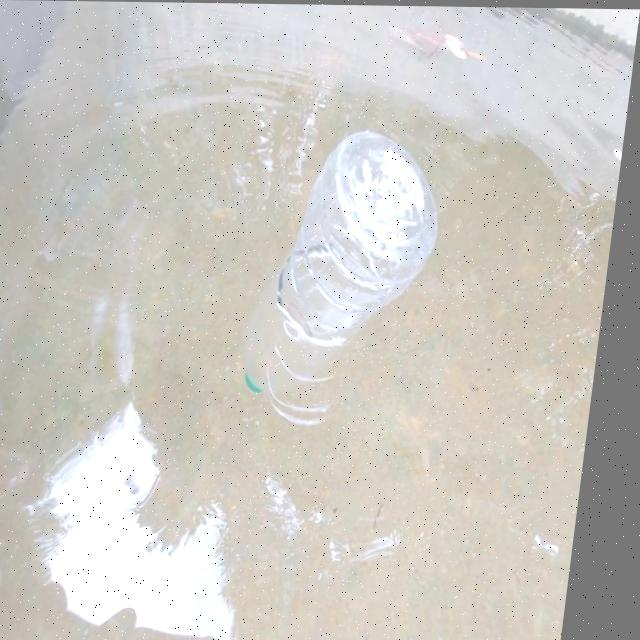leaf: (376, 7, 498, 87)
waterbottle: (218, 121, 462, 412)
